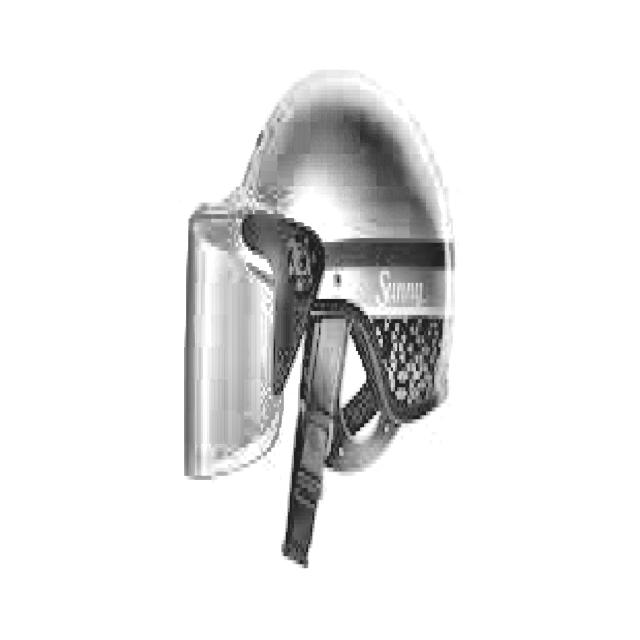Helmet: (176, 69, 452, 588)
